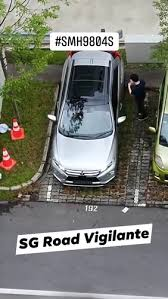car: (47, 51, 127, 192)
cone: (1, 147, 17, 173), (9, 119, 26, 142)
